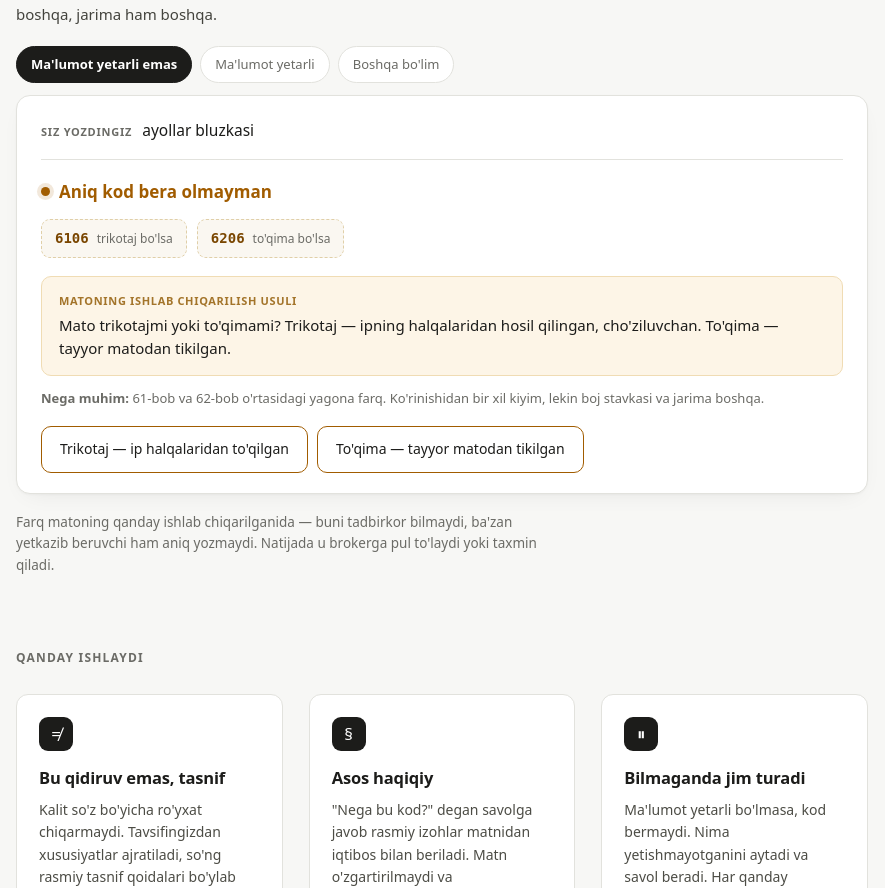
Scenario: demo — savol-javob sikli › kod bilan birga huquqiy asos ko'rsatiladi
The image size is (885, 888).
(page scrolled)
Click the button with test id "demo-option" that starts with "Trikotaj — ip halqalaridan to'qilgan": (174, 450) [41,426,308,473]
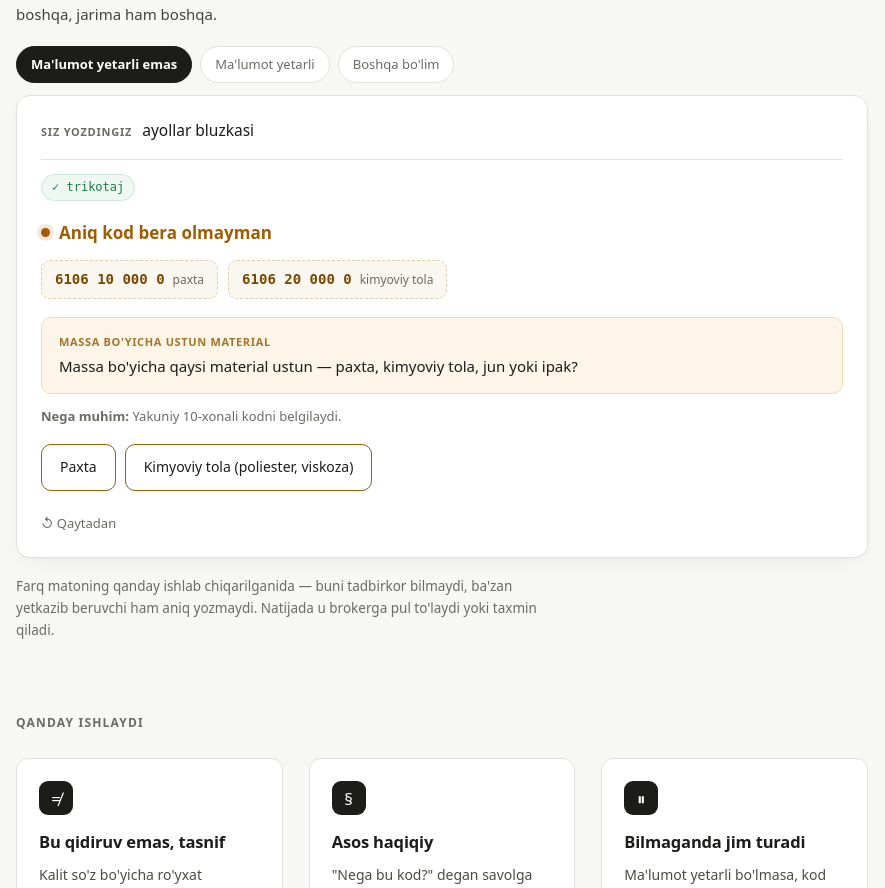
Expected: the element with test id "demo-question" is shown, [41,317,843,394]
Click the button with test id "demo-option" showing "Paxta": (78, 467) [41,444,116,491]
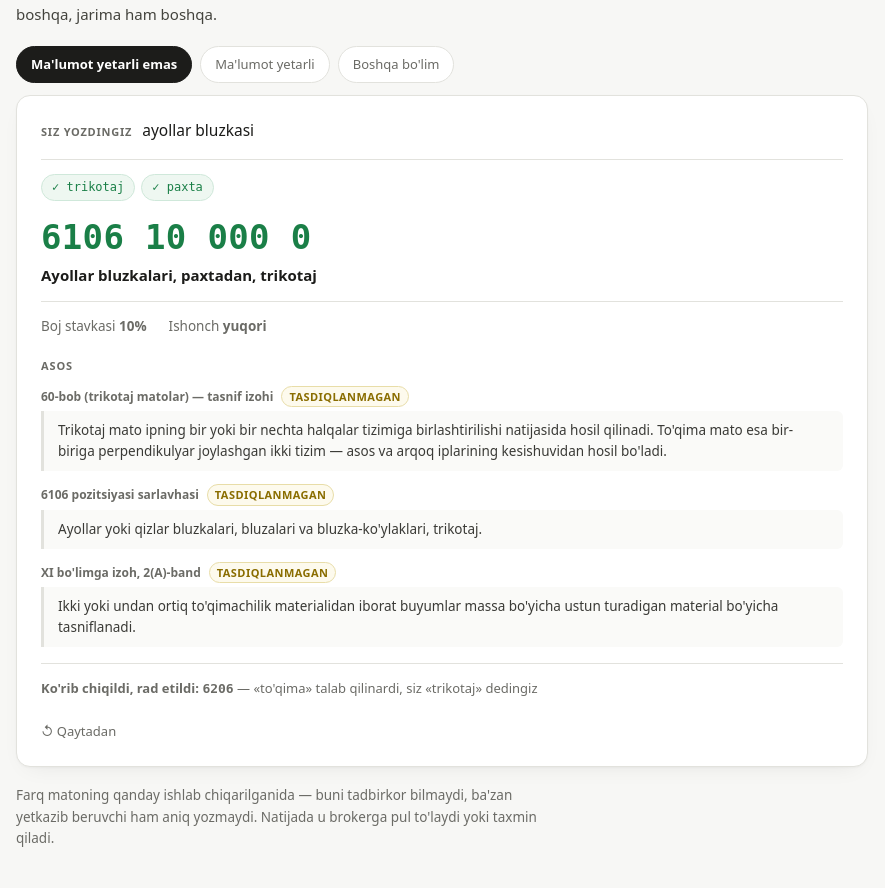
Expected: the text "6106 10 000 0" is shown, [41,217,312,257]
Expected: the element with test id "demo-citation" that starts with "60-bob (trikotaj matolar) — tasnif izohi" is shown, [41,386,843,471]
